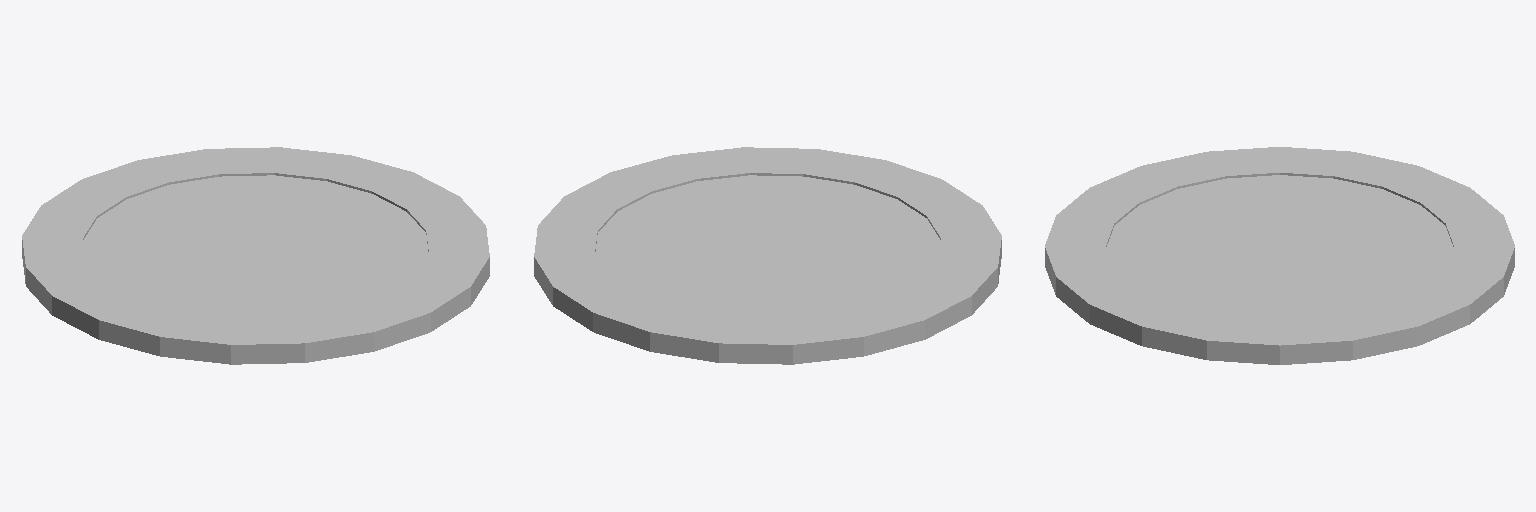
The model's file is disk.obj.
3 views of the same model, side by side, from view 1: azimuth 30°, elevation 25°; view 2: azimuth 150°, elevation 25°; view 3: azimuth 270°, elevation 25° (orthographic).
Parts seen in each view (by area): view 1: disco:disco1; view 2: disco:disco1; view 3: disco:disco1.
Part boxes in pixels (x1,y1,x2,y2): disco:disco1: (22,147,489,364); disco:disco1: (534,147,1001,364); disco:disco1: (1045,147,1514,364).
Bounding box in the file's own units: 0.9969 × 0.0461 × 0.9969.